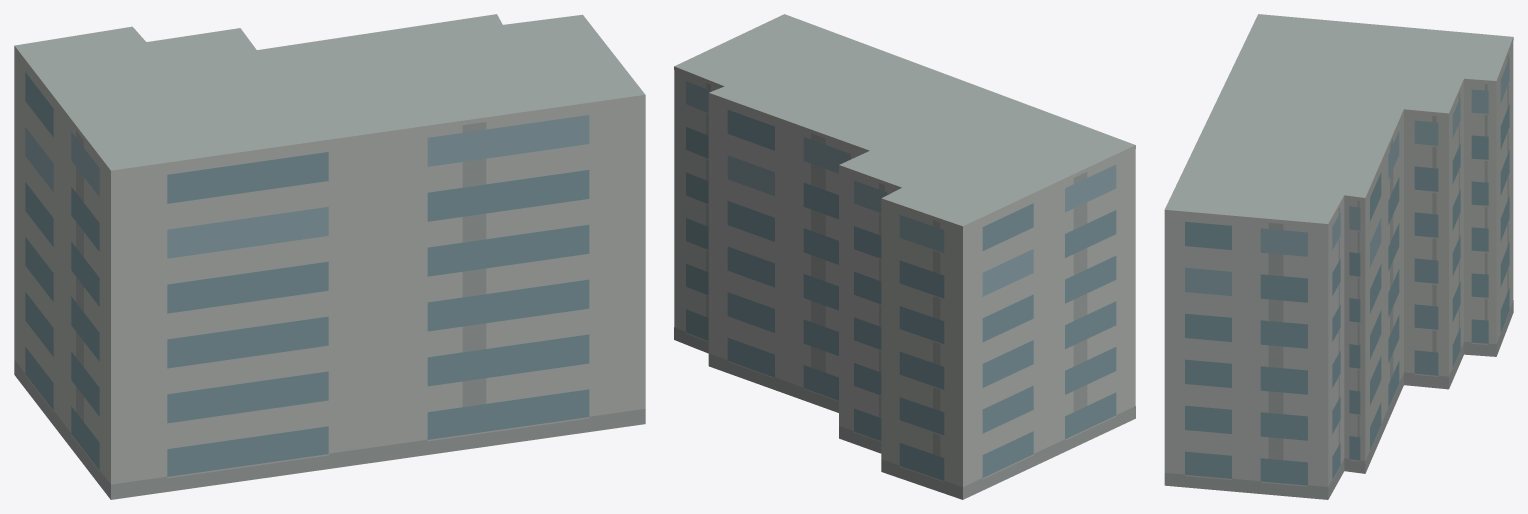
The model's file is survey-upis-32697939.glb.
3 views of the same model, side by side, from view 1: azimuth 30°, elevation 25°; view 2: azimuth 150°, elevation 25°; view 3: azimuth 270°, elevation 25° (orthographic). The views are drawn at different scales.
Visible parts, largest first — view 1: survey-upis-32697939.tmp; view 2: survey-upis-32697939.tmp; view 3: survey-upis-32697939.tmp.
Part boxes in pixels (box(x1,y1,x2,y2)): survey-upis-32697939.tmp: box(14, 14, 645, 499); survey-upis-32697939.tmp: box(674, 14, 1135, 499); survey-upis-32697939.tmp: box(1164, 14, 1513, 499).
Size of the model in its own units: 28.58 by 17.5 by 20.07.
